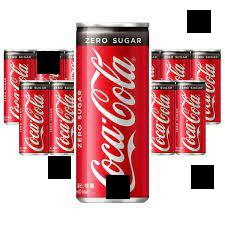cocacola_zero: (74, 19, 151, 207)
